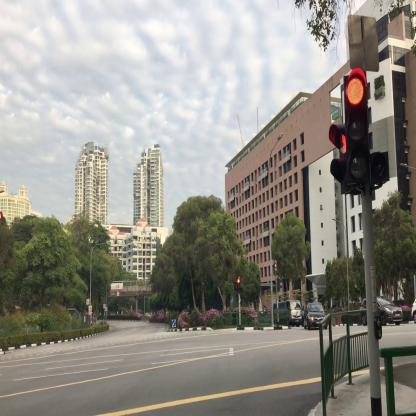red_traffic_light: (345, 72, 372, 190), (238, 277, 240, 292)
